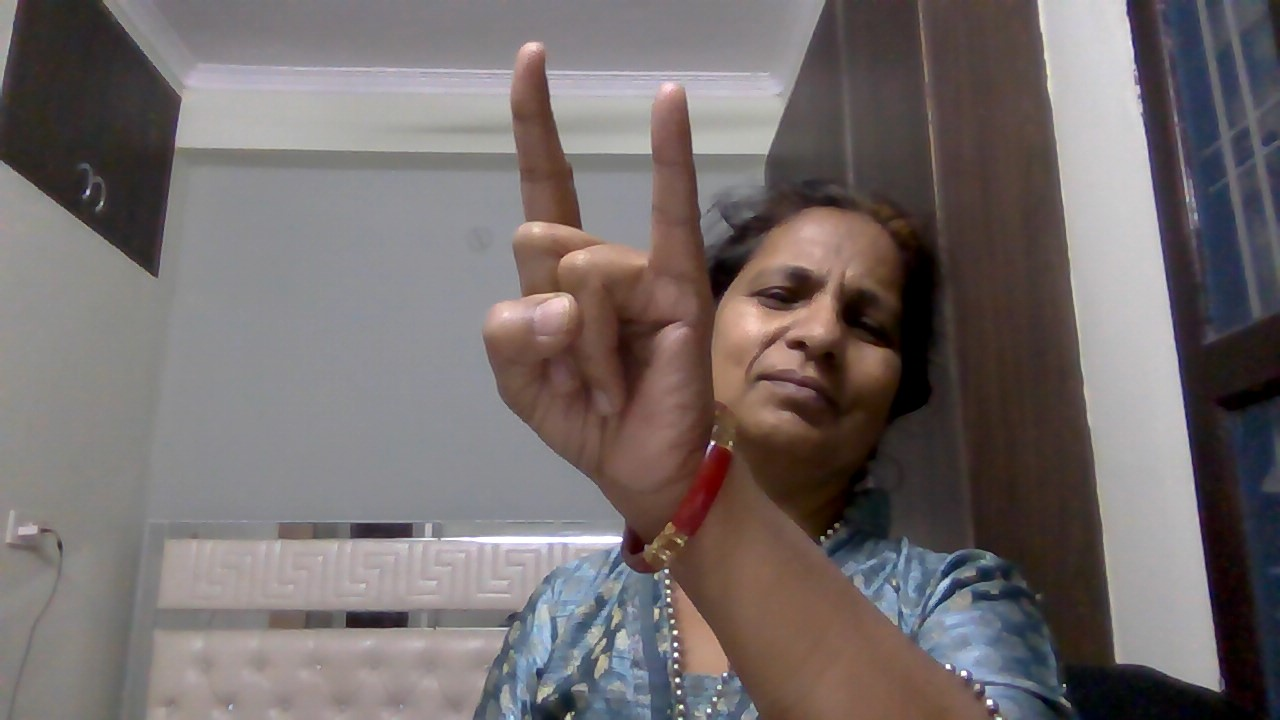Select All: (470, 28, 726, 506)
